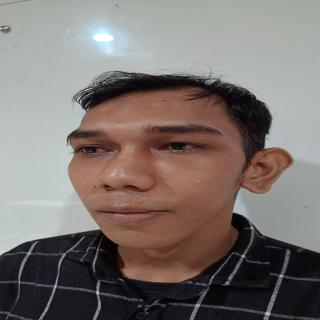Netral: (58, 85, 258, 256)
